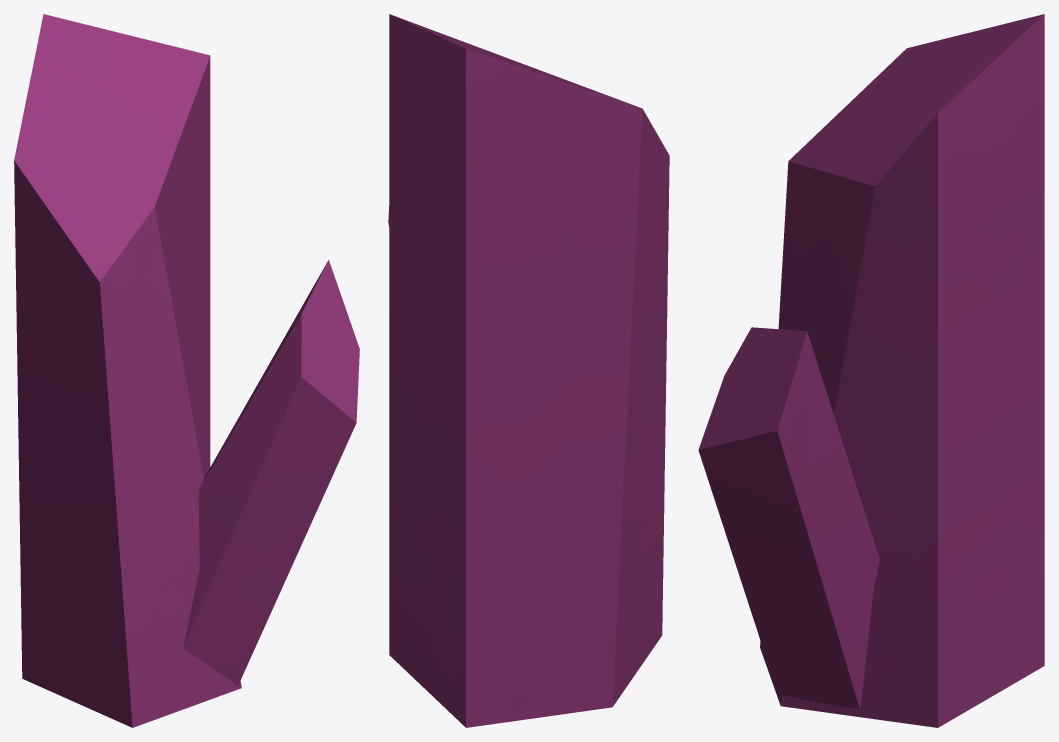
3 renders of one model, left to right at view 1: azimuth 30°, elevation 25°; view 2: azimuth 150°, elevation 25°; view 3: azimuth 270°, elevation 25°, orthographic. The views are drawn at different scales.
Parts seen in each view (by area): view 1: 3; view 2: 3; view 3: 3.
Boxes of the visible parts, bbox=[...] form: 3: bbox=[14, 14, 359, 727]; 3: bbox=[388, 14, 669, 727]; 3: bbox=[698, 14, 1044, 727].
Size of the model in its own units: 69.84 by 142 by 67.79.
Materials: 1 (1 with a texture image).
